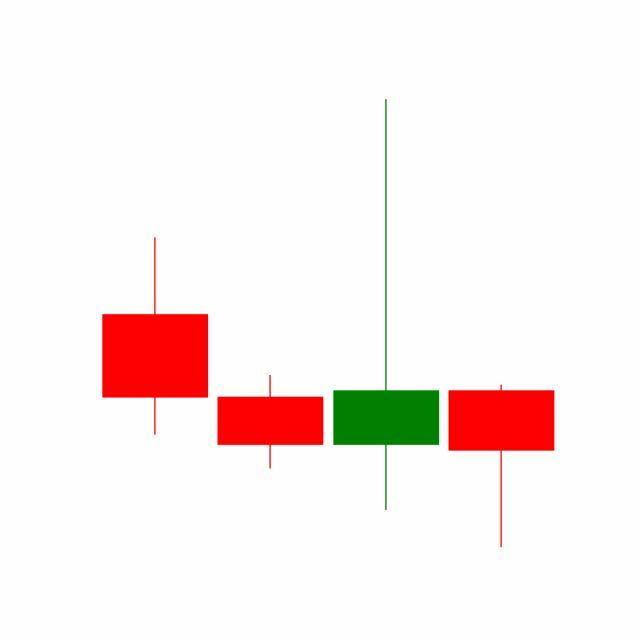Spinning Top: (329, 95, 445, 516)
